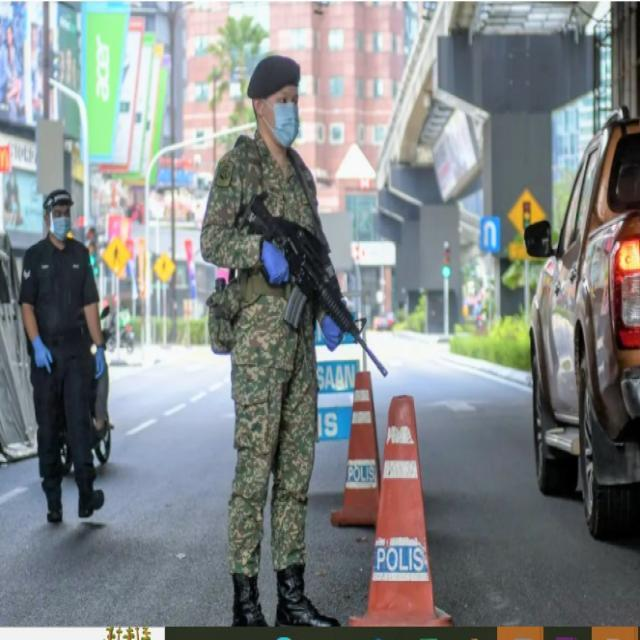m16: (200, 166, 442, 392)
